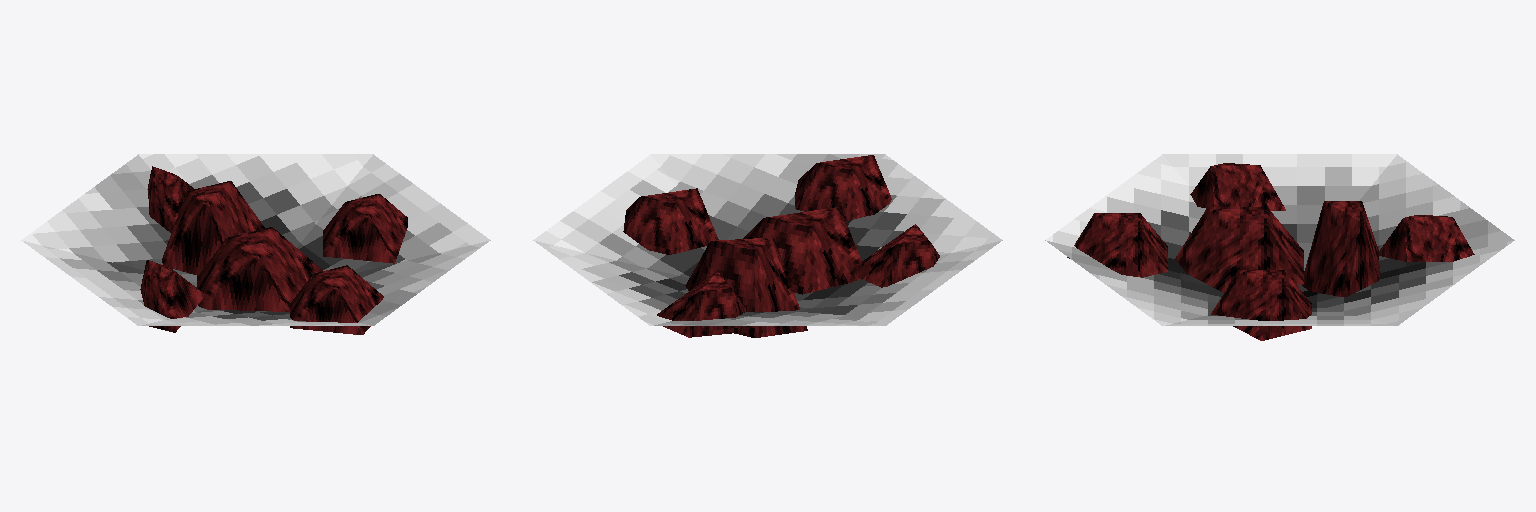
3 views of the same model, side by side, from view 1: azimuth 30°, elevation 25°; view 2: azimuth 150°, elevation 25°; view 3: azimuth 270°, elevation 25° (orthographic).
Parts seen in each view (by area): view 1: food1; view 2: food1; view 3: food1.
Part boxes in pixels (x1,y1,x2,y2): food1: (21,154,490,334); food1: (533,154,1002,337); food1: (1045,154,1514,340).
Bounding box in the file's own units: 5.72 × 1.29 × 6.61.
Materials: 2 (2 with a texture image).